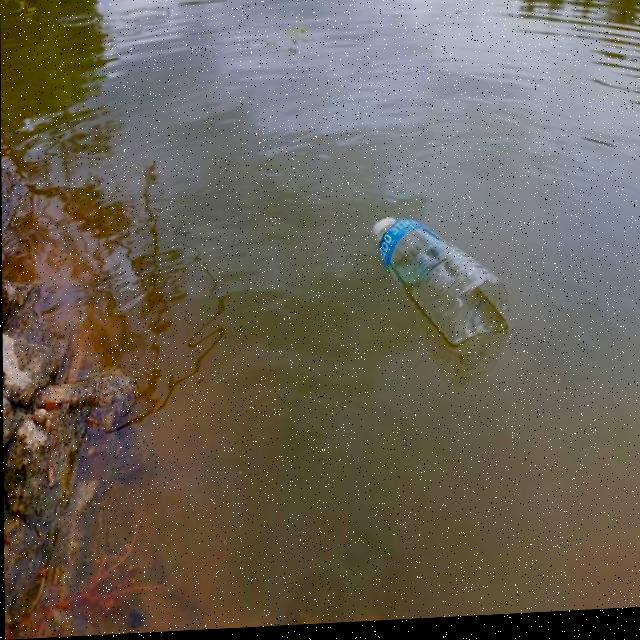waterbottle: (382, 185, 499, 369)
